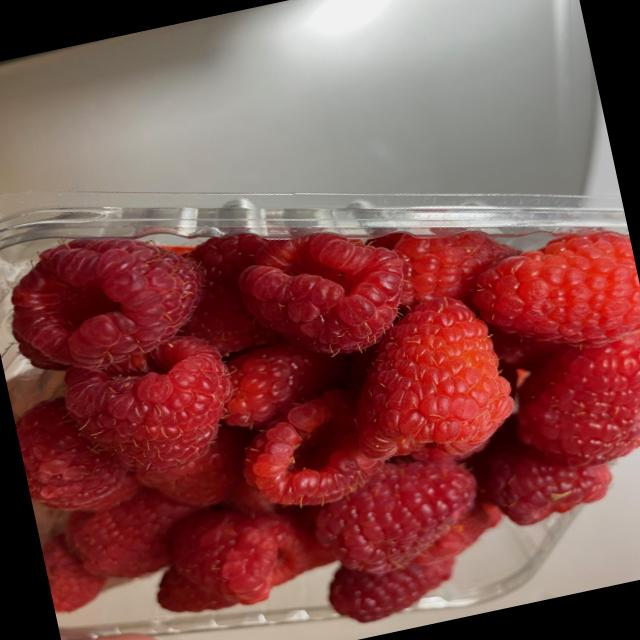raspberries: (19, 249, 640, 628)
